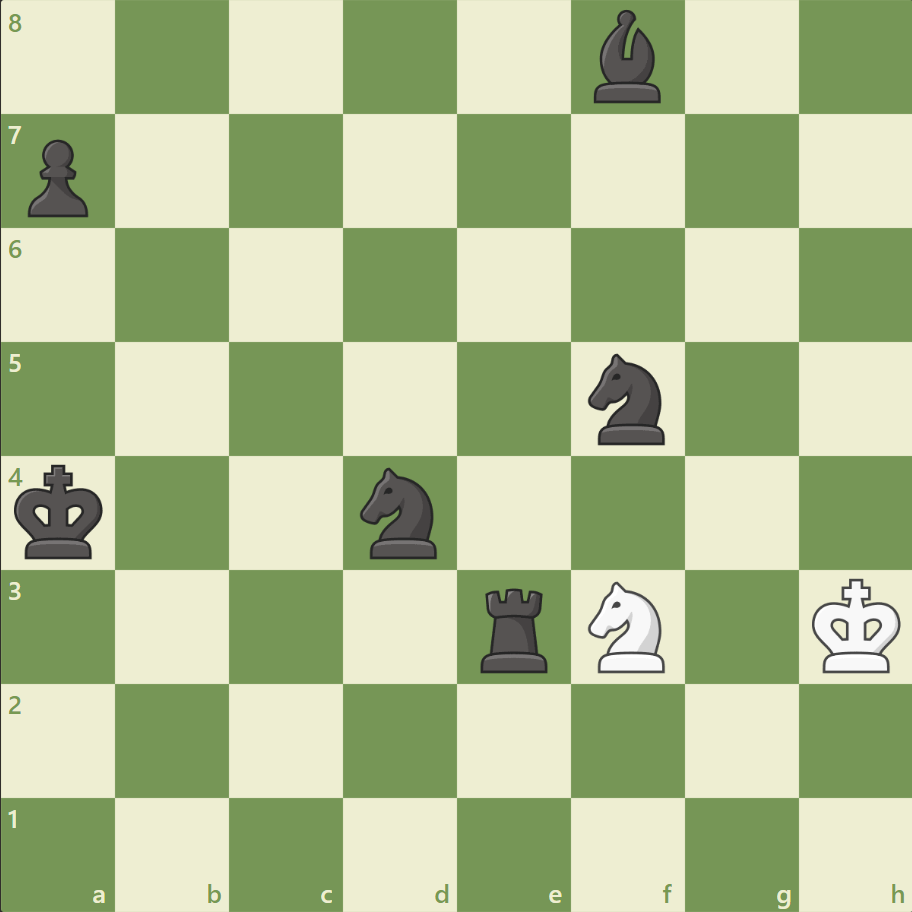K: (806, 571, 906, 679)
N: (579, 575, 676, 677)
b: (585, 6, 669, 109)
k: (11, 458, 111, 566)
n: (351, 461, 449, 564), (579, 348, 676, 450)
p: (20, 132, 95, 223)
r: (473, 579, 556, 676)
